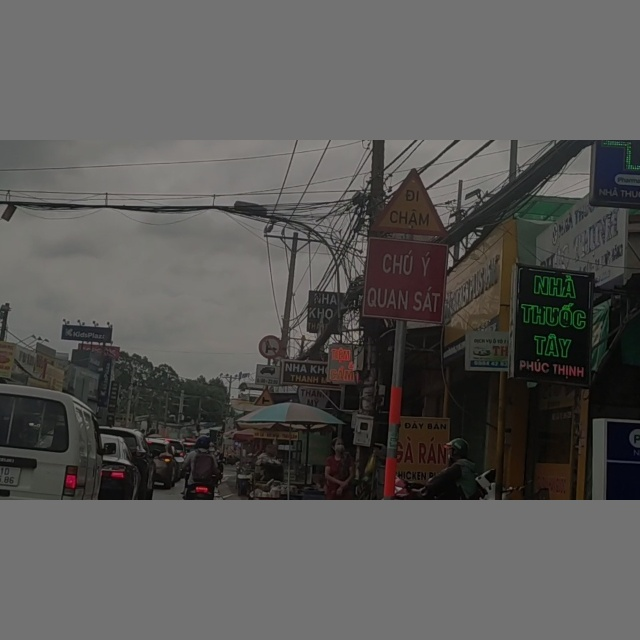P.139: (257, 333, 285, 361)
S.505a*Xe tai: (257, 365, 281, 384)
W.205b: (255, 386, 275, 407)
W.245a: (369, 167, 455, 237)
